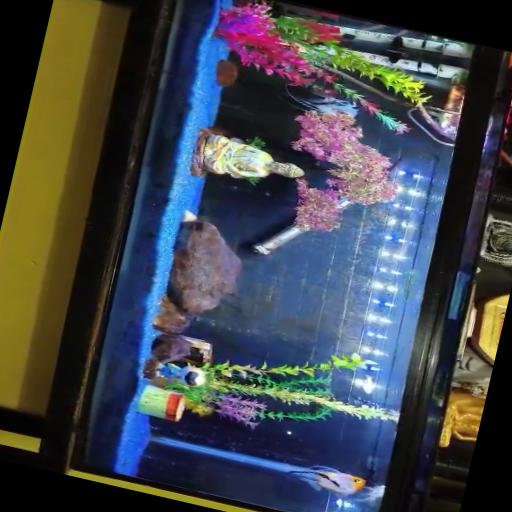Fish: (286, 465, 364, 494), (286, 87, 358, 116), (352, 484, 384, 501)
